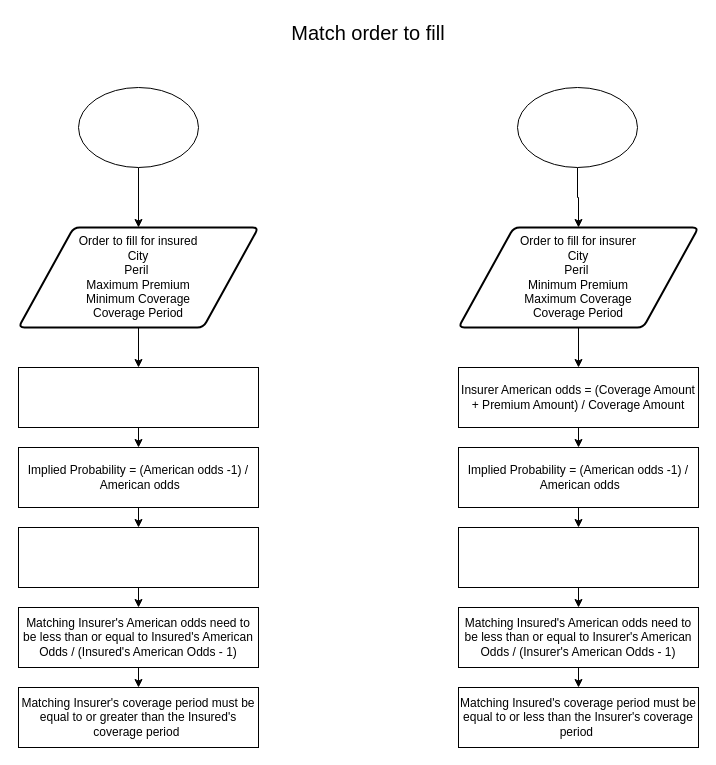
The diagram is 716 pixels wide and 765 high, and some of its shapes have lost their labels. The centre of each missing label's shape, as x and y in pixels:
"Find insured with policy to fill with same city and peril" goes at pixel 578 557.
"Find insurer with policy to fill with same city and peril" goes at pixel 138 557.
"Insured American odds = (Coverage Amount + Premium Amount) / Premium Amount" goes at pixel 138 397.
"Insured Start" goes at pixel 138 127.
"Insurer Start" goes at pixel 577 127.
